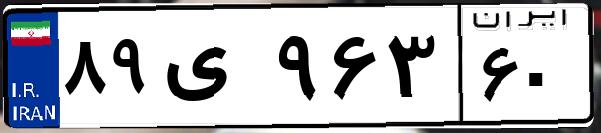0: (525, 38, 570, 115)
3: (385, 28, 445, 110)
6: (330, 28, 385, 110), (475, 38, 525, 113)
8: (57, 26, 110, 100)
9: (270, 28, 330, 110), (110, 28, 158, 98)
ی: (158, 20, 270, 120)
